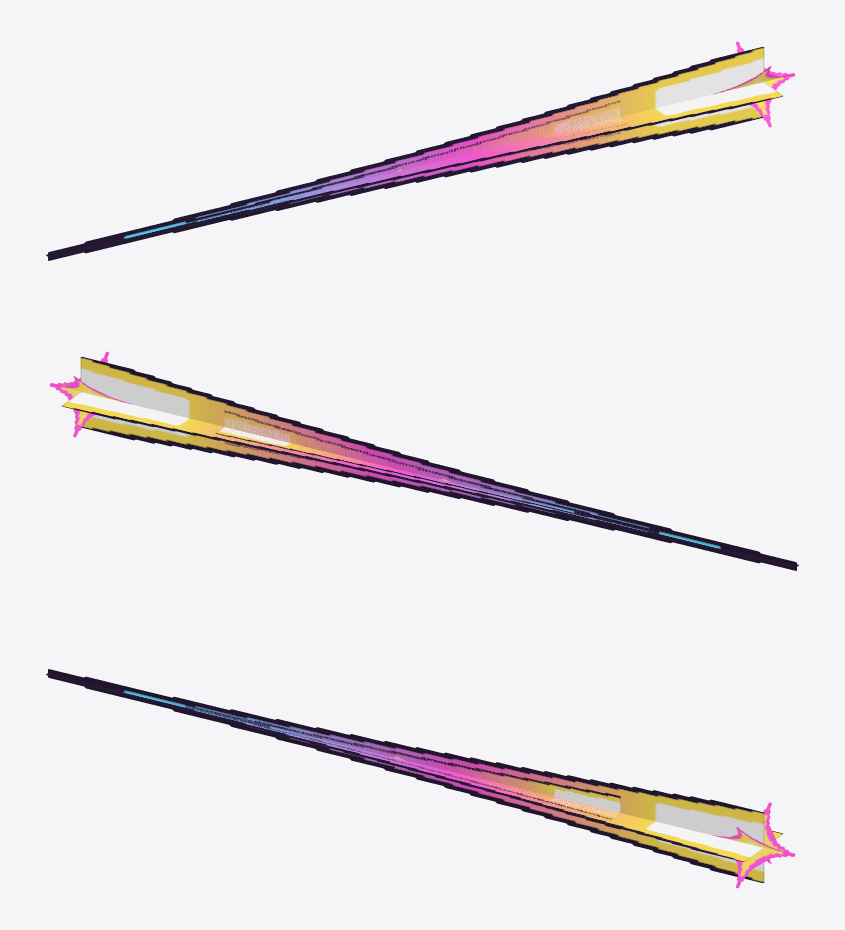
The model's file is wx_stars.glb.
3 renders of one model, top to bottom at view 1: azimuth 30°, elevation 25°; view 2: azimuth 150°, elevation 25°; view 3: azimuth 330°, elevation 25°, orthographic.
Visible parts, largest first — view 1: wx_meteor_big, wx_meteor; view 2: wx_meteor_big, wx_meteor; view 3: wx_meteor_big, wx_meteor.
Part boxes in pixels (x1,y1,x2,y2): wx_meteor_big: (46, 41, 795, 260); wx_meteor: (185, 100, 625, 223); wx_meteor_big: (49, 351, 798, 570); wx_meteor: (215, 410, 659, 533); wx_meteor_big: (46, 669, 795, 888); wx_meteor: (185, 705, 620, 829).
Size of the model in its own units: 59.4 by 5.94 by 5.94.
Materials: 2 (2 with a texture image).
